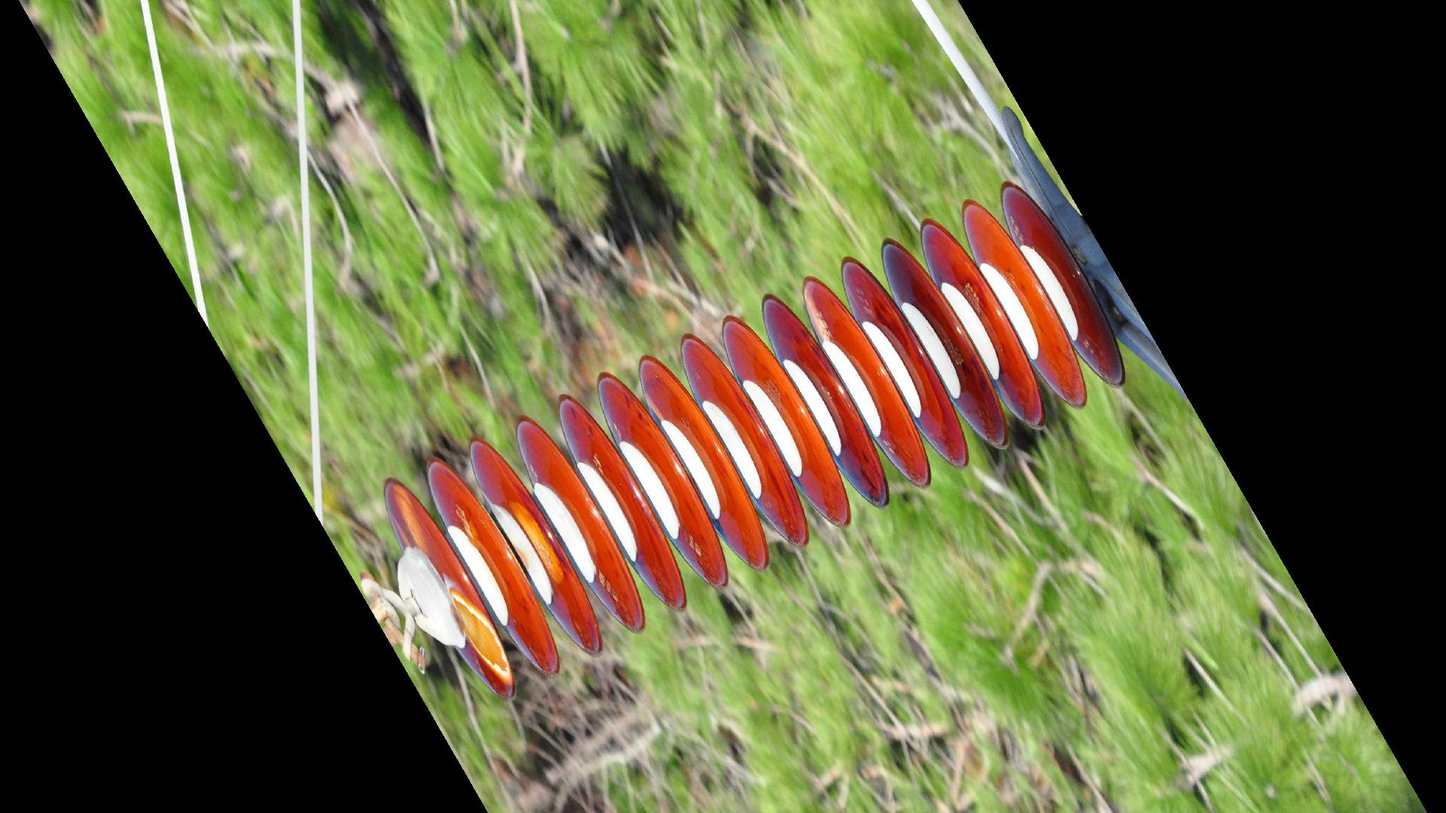insulator: (377, 177, 1131, 704)
insulator_flashover: (447, 584, 514, 684), (506, 498, 566, 586), (383, 477, 429, 555), (801, 288, 834, 345)
